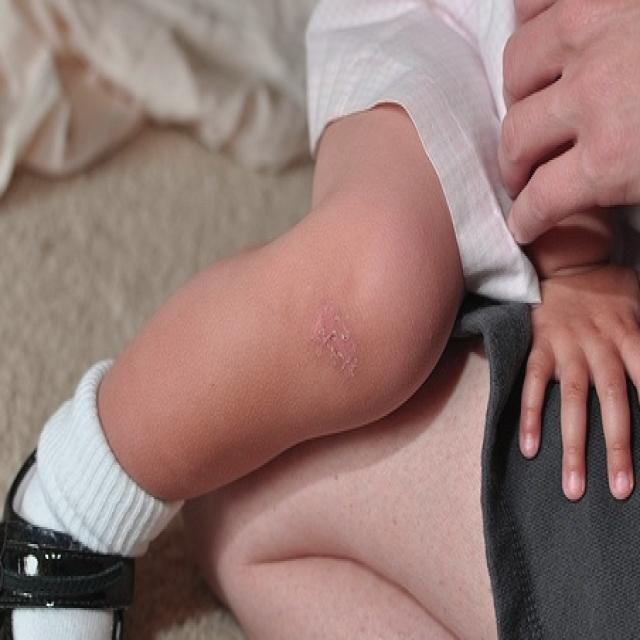piel: (97, 110, 469, 504), (184, 338, 505, 640), (521, 207, 640, 509), (496, 0, 640, 236)
